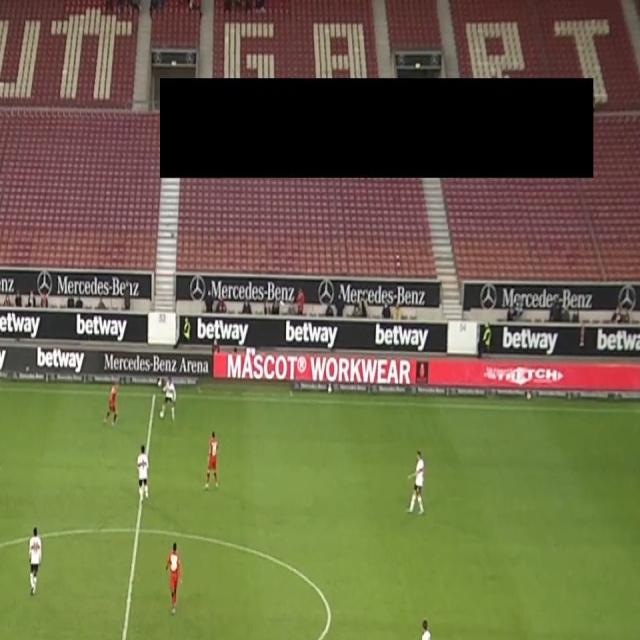ball: (158, 408, 166, 420)
